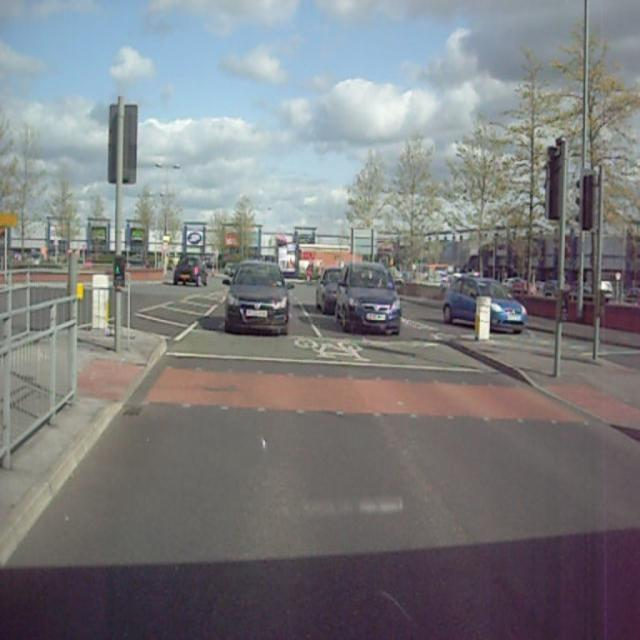off traffic light: (108, 103, 139, 185), (544, 147, 563, 219), (575, 167, 596, 229)
